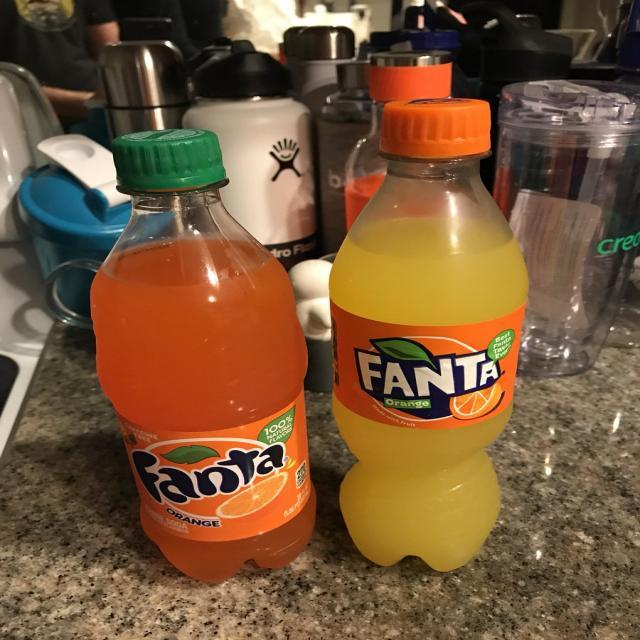Fanta: (89, 128, 320, 579), (322, 90, 536, 570)
